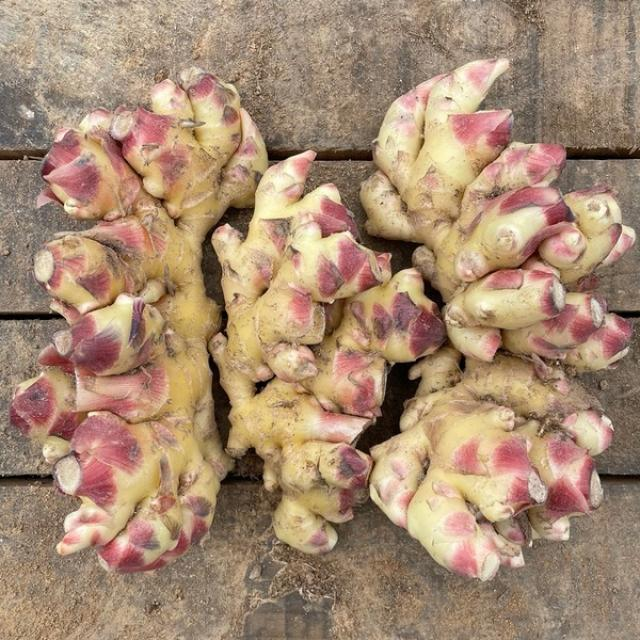ginger: (359, 56, 639, 588), (16, 64, 260, 568), (220, 150, 413, 566)
